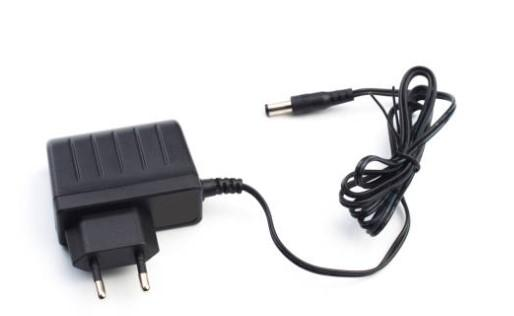cable: (47, 66, 455, 298)
